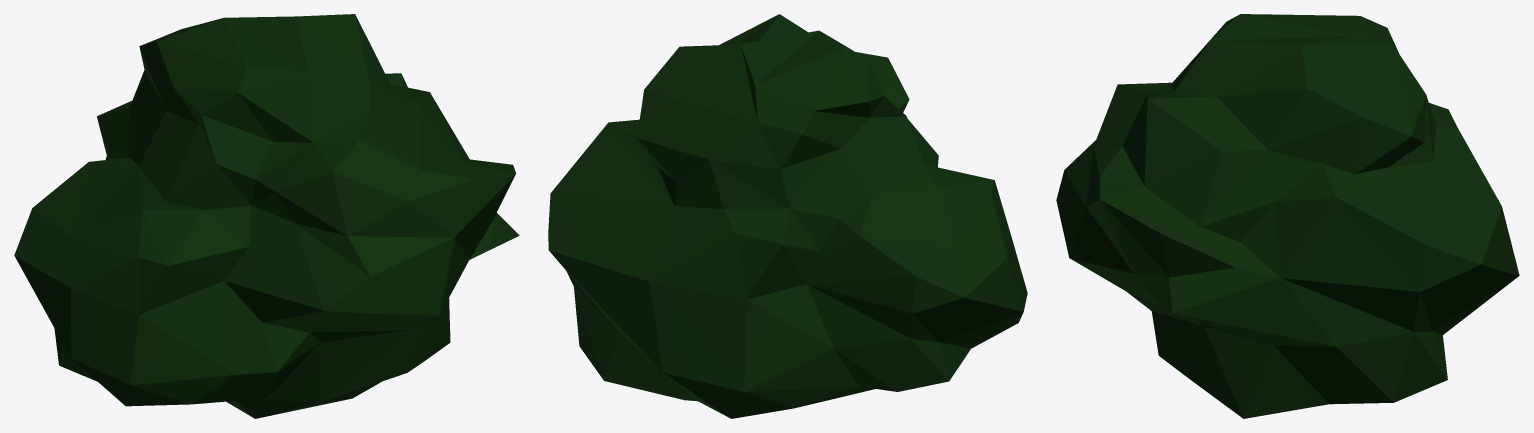
Rendered from bush1.obj.
3 views of the same model, side by side, from view 1: azimuth 30°, elevation 25°; view 2: azimuth 150°, elevation 25°; view 3: azimuth 270°, elevation 25° (orthographic). The views are drawn at different scales.
Parts seen in each view (by area): view 1: bush_1_Cube.020; view 2: bush_1_Cube.020; view 3: bush_1_Cube.020.
Part boxes in pixels (<box>): bush_1_Cube.020: <box>14,14,519,418</box>; bush_1_Cube.020: <box>548,14,1027,418</box>; bush_1_Cube.020: <box>1056,14,1519,418</box>.
Bounding box in the file's own units: 2.67 × 2.19 × 2.71.
